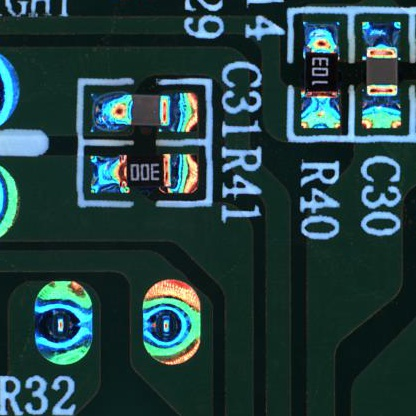spot: (26, 265, 101, 371), (135, 269, 208, 373)
